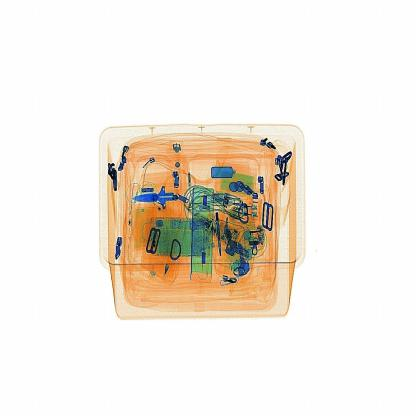gun: (129, 166, 197, 224)
